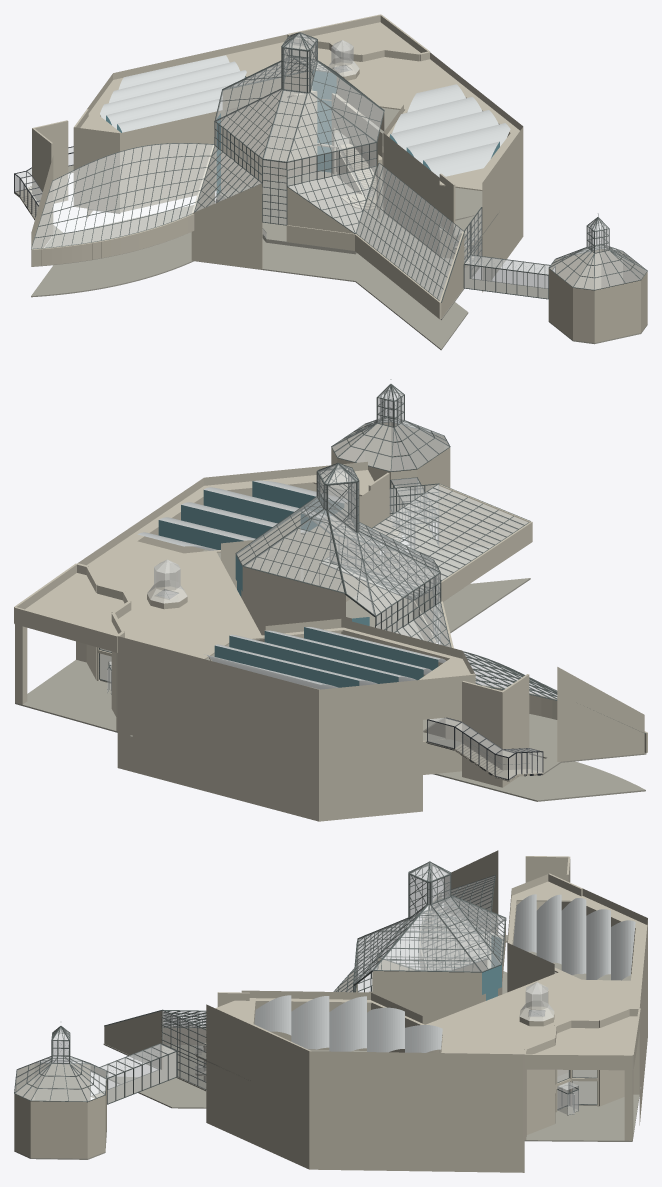
File: MUDAM_R14_BATI_CAM_MERDIVEN_v003_preview.glb
3 views of the same model, one above another, from view 1: azimuth 30°, elevation 25°; view 2: azimuth 150°, elevation 25°; view 3: azimuth 270°, elevation 25° (orthographic). The views are drawn at different scales.
Visible parts, largest first — view 1: P05_ZONE_LM1_GALLERIES_FOYER, P05_MAIN_ROOF_DECK, P04_PAV_WALL_ENVELOPE, P05_GALLERY_HALL_WEST1, P05_MAIN_ATRIUM_BASE_3, R07_STAIRWELL_STONE_NORTH, P05_FRONT_0, P05_GALLERY_HALL_EAST1, P05_FLOOR_L00_GH, P05_GALLERY_HALL_WEST2, P05_FLOOR_L00_EAST_GARDEN, P05_FLOOR_L00_WEST_CAFE (+20 smaller); view 2: P05_FRONT_9, P05_MAIN_ROOF_DECK, P05_FRONT_10, P05_ZONE_LM1_GALLERIES_FOYER, P05_WEST_END, P04_PAV_WALL_ENVELOPE, P07_CANOPY_PAVING_DISPLAY, P05_GALLERY_HALL_EAST1, R14_INNER_WALL_B, R11_STONE_END, P07_CANOPY_SLAB_ENVELOPE, P05_FLOOR_L00_EAST_GARDEN (+29 smaller); view 3: P05_FRONT_1, P05_MAIN_ROOF_DECK, P05_FRONT_0, P04_PAV_WALL_ENVELOPE, P07_CANOPY_PAVING_DISPLAY, P06_HIGH_EAVE_UPSTAND_5, P07_CANOPY_SLAB_ENVELOPE, P05_WEST_END, R11_STONE_END, P07_ENTRY_RETURN_1, P07_CANOPY_FASCIA_0, P05_MAIN_ATRIUM_BASE_5_R02_BEFORE_R04_ABOVE (+14 smaller).
Boxes of the visible parts, x1=… form: P05_ZONE_LM1_GALLERIES_FOYER: x1=31, y1=232, x2=468, y2=350; P05_MAIN_ROOF_DECK: x1=75, y1=42, x2=522, y2=190; P04_PAV_WALL_ENVELOPE: x1=548, y1=249, x2=647, y2=342; P05_GALLERY_HALL_WEST1: x1=120, y1=110, x2=224, y2=212; P05_MAIN_ATRIUM_BASE_3: x1=221, y1=91, x2=317, y2=191; R07_STAIRWELL_STONE_NORTH: x1=191, y1=183, x2=262, y2=269; P05_FRONT_0: x1=482, y1=127, x2=523, y2=292; P05_GALLERY_HALL_EAST1: x1=383, y1=133, x2=439, y2=256; P05_FLOOR_L00_GH: x1=216, y1=172, x2=383, y2=251; P05_GALLERY_HALL_WEST2: x1=73, y1=127, x2=119, y2=212; P05_FLOOR_L00_EAST_GARDEN: x1=357, y1=213, x2=482, y2=319; P05_FLOOR_L00_WEST_CAFE: x1=31, y1=200, x2=215, y2=266; P05_FRONT_9: x1=117, y1=636, x2=318, y2=821; P05_MAIN_ROOF_DECK: x1=87, y1=470, x2=475, y2=699; P05_FRONT_10: x1=319, y1=679, x2=422, y2=821; P05_ZONE_LM1_GALLERIES_FOYER: x1=433, y1=578, x2=645, y2=801; P05_WEST_END: x1=557, y1=667, x2=644, y2=761; P04_PAV_WALL_ENVELOPE: x1=331, y1=422, x2=450, y2=523; P07_CANOPY_PAVING_DISPLAY: x1=15, y1=660, x2=117, y2=732; P05_GALLERY_HALL_EAST1: x1=303, y1=484, x2=379, y2=601; R14_INNER_WALL_B: x1=462, y1=681, x2=503, y2=787; R11_STONE_END: x1=439, y1=484, x2=530, y2=550; P07_CANOPY_SLAB_ENVELOPE: x1=25, y1=573, x2=124, y2=635; P05_FLOOR_L00_EAST_GARDEN: x1=346, y1=546, x2=492, y2=623; P05_FRONT_1: x1=309, y1=1051, x2=524, y2=1172; P05_MAIN_ROOF_DECK: x1=207, y1=881, x2=647, y2=1062; P05_FRONT_0: x1=206, y1=1004, x2=309, y2=1169; P04_PAV_WALL_ENVELOPE: x1=14, y1=1063, x2=106, y2=1158; P07_CANOPY_PAVING_DISPLAY: x1=524, y1=1094, x2=639, y2=1141; P06_HIGH_EAVE_UPSTAND_5: x1=372, y1=971, x2=481, y2=994; P07_CANOPY_SLAB_ENVELOPE: x1=535, y1=1016, x2=637, y2=1054; P05_WEST_END: x1=444, y1=850, x2=498, y2=935; R11_STONE_END: x1=104, y1=1011, x2=163, y2=1069; P07_ENTRY_RETURN_1: x1=524, y1=1037, x2=554, y2=1134; P07_CANOPY_FASCIA_0: x1=524, y1=1054, x2=632, y2=1070; P05_MAIN_ATRIUM_BASE_5_R02_BEFORE_R04_ABOVE: x1=381, y1=993, x2=480, y2=1024.
Size of the model in its own units: 80.45 by 35.94 by 93.32.
